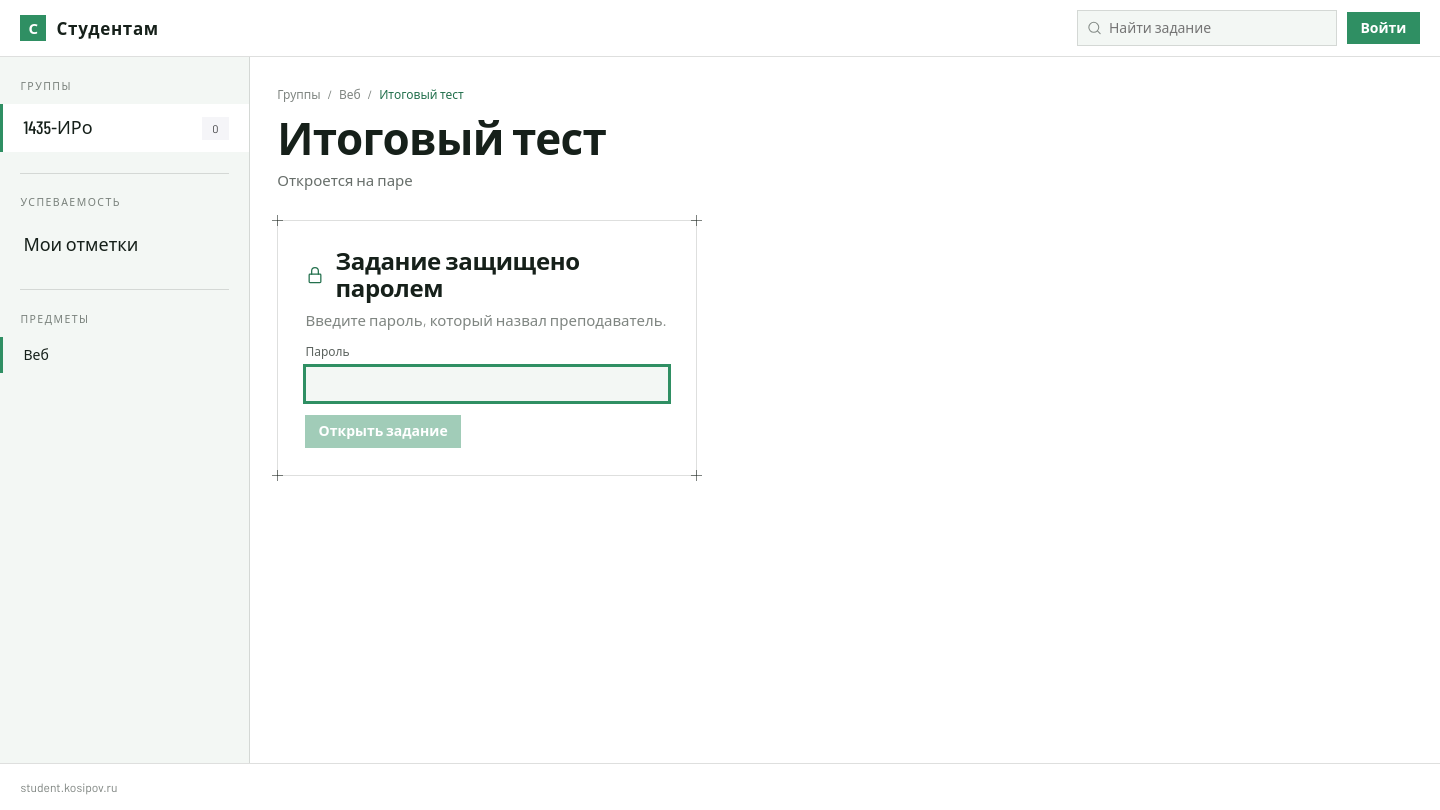
TaskPage with a password › asks for the password and shows the task after the right one
Expected: the heading "Задание защищено паролем" is shown, [336,246,580,302]
Expected: the text "Откроется на паре" is shown, [277,171,413,189]
Type "nope" into the password field labelled "Пароль" at coordinates (487, 384), box [305,366,669,402]
Then press Enter
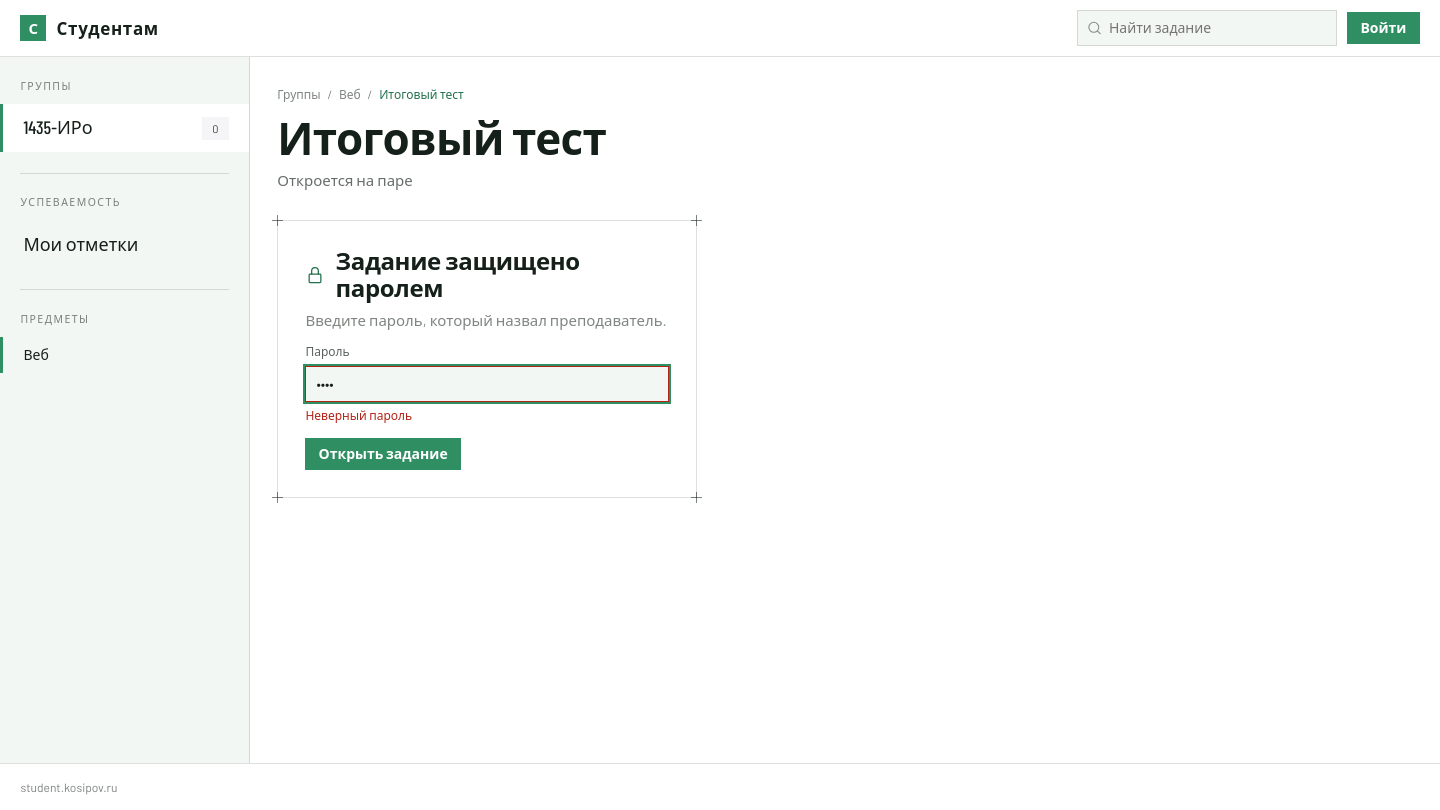
Expected: the text "Неверный пароль" is shown, [305,408,412,422]
Type "k3y" into the password field labelled "Пароль" at coordinates (487, 384), box [305,366,669,402]
Then press Enter
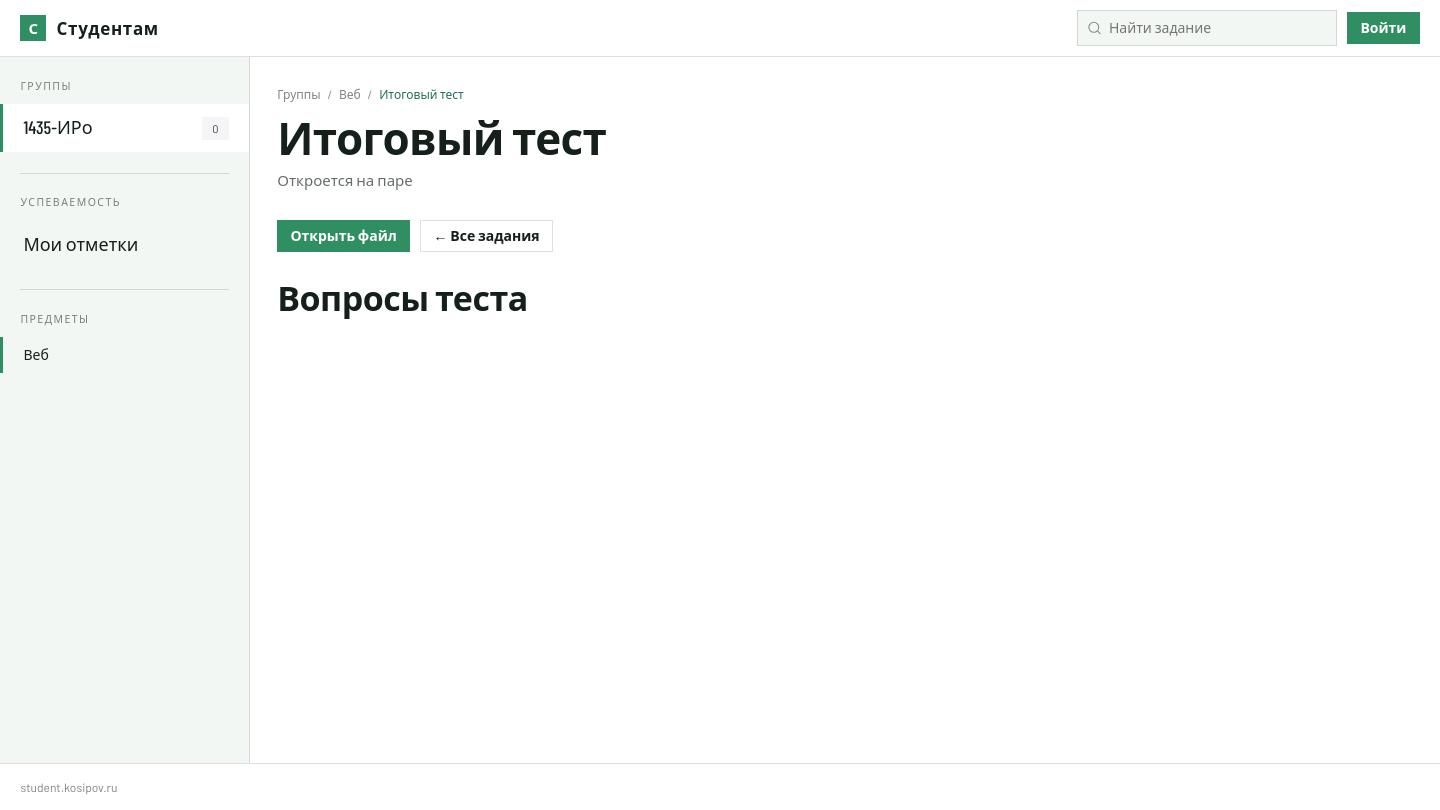
Expected: the heading "Вопросы теста" is shown, [277,277,528,318]
